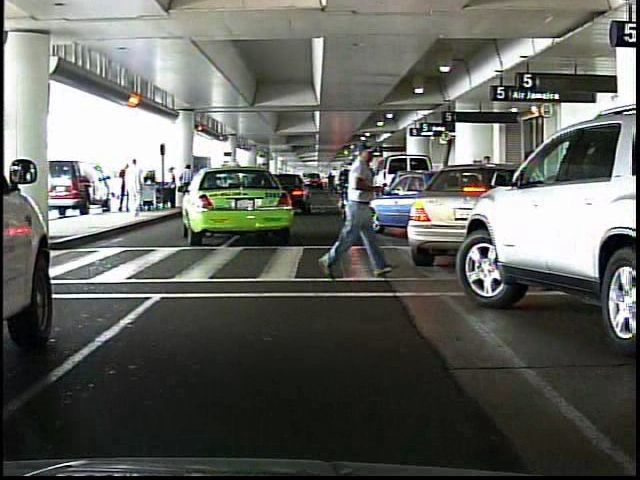person: (321, 141, 391, 285)
